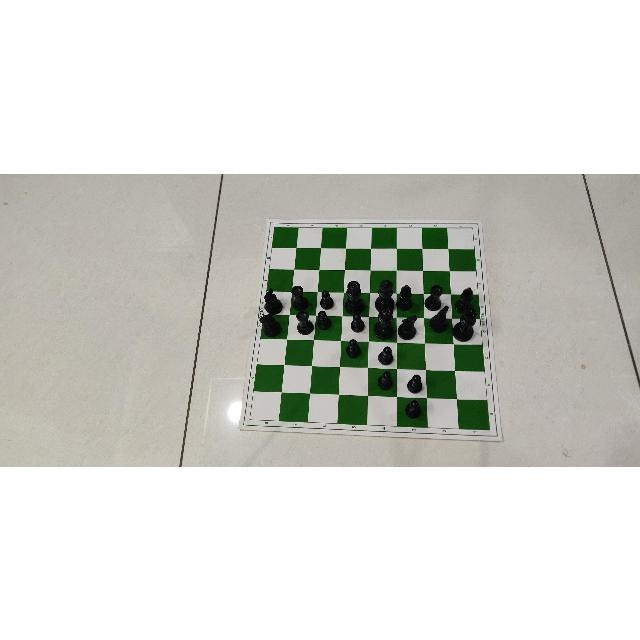black-bishop: (454, 285, 474, 313), (458, 284, 476, 311), (397, 284, 415, 310), (395, 283, 412, 310)
black-king: (451, 307, 478, 341), (375, 279, 395, 313), (376, 279, 396, 313), (459, 309, 479, 341), (350, 312, 366, 332)
black-knight: (428, 304, 450, 332), (258, 311, 281, 337), (263, 287, 283, 315), (430, 305, 450, 332), (262, 289, 282, 315), (397, 314, 417, 340), (400, 314, 418, 340), (258, 315, 281, 335)
black-pawn: (315, 308, 333, 331), (402, 400, 421, 419), (316, 288, 333, 309), (377, 346, 394, 366), (404, 398, 421, 418), (316, 309, 332, 330), (377, 369, 393, 390), (407, 372, 423, 393), (346, 337, 361, 359), (377, 369, 393, 389), (345, 338, 361, 358), (407, 373, 423, 393), (377, 345, 393, 365), (319, 288, 334, 309), (350, 312, 365, 332)
black-queen: (344, 279, 366, 315), (372, 304, 394, 339), (344, 279, 366, 314), (373, 307, 395, 336)
black-rook: (289, 283, 310, 309), (424, 283, 444, 310), (294, 310, 314, 336), (425, 283, 444, 309), (290, 284, 309, 310), (296, 309, 314, 334)
